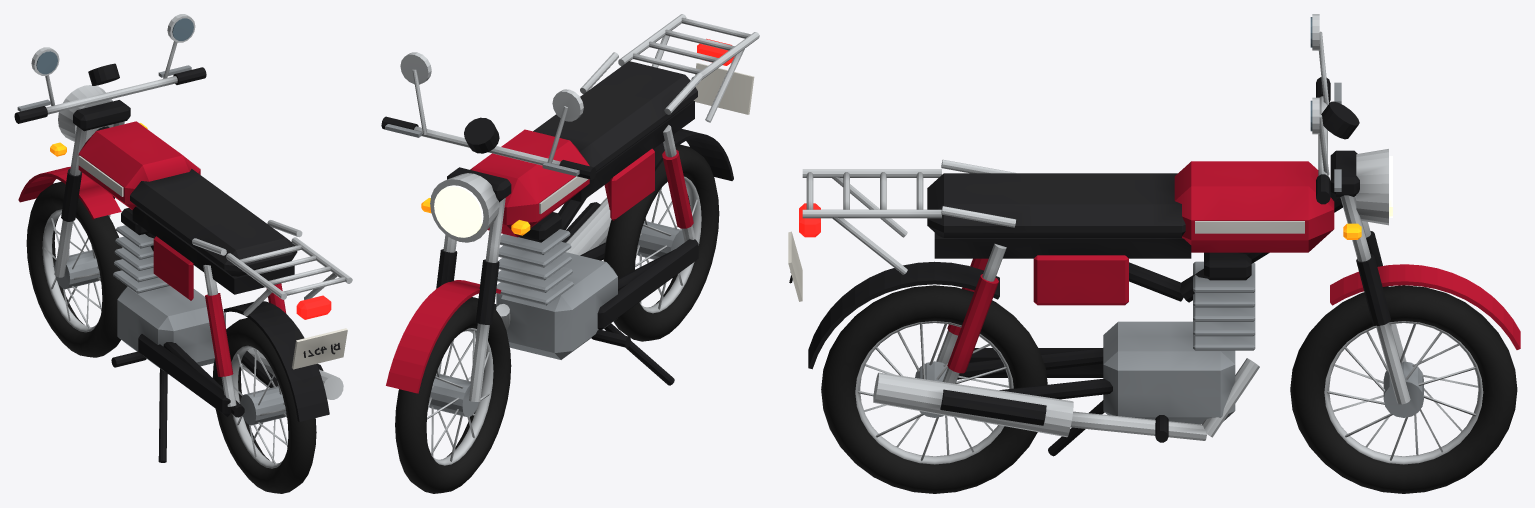
File: ob-zem.glb
3 renders of one model, left to right at view 1: azimuth 30°, elevation 25°; view 2: azimuth 150°, elevation 25°; view 3: azimuth 270°, elevation 25°, orthographic. The views are drawn at different scales.
Visible parts, largest first — view 1: z_noir, z_pneu, z_chrome, z_alu, z_rouge, selle, plaque, z_miroir, feu, z_blanc; view 2: z_chrome, z_pneu, z_alu, z_noir, z_rouge, selle, phare, plaque, z_blanc; view 3: z_pneu, z_chrome, z_noir, z_rouge, z_alu, selle, z_blanc.
Part boxes in pixels (left/top/right/bottom): z_noir: left=14, top=63, right=340, bottom=462; z_pneu: left=26, top=181, right=316, bottom=493; z_chrome: left=31, top=14, right=352, bottom=468; z_alu: left=17, top=65, right=286, bottom=425; z_rouge: left=18, top=121, right=286, bottom=376; selle: left=130, top=169, right=297, bottom=276; plaque: left=292, top=328, right=347, bottom=369; z_miroir: left=36, top=18, right=193, bottom=74; feu: left=296, top=295, right=331, bottom=319; z_blanc: left=78, top=155, right=200, bottom=196; z_chrome: left=400, top=14, right=759, bottom=465; z_pneu: left=395, top=144, right=719, bottom=493; z_alu: left=385, top=124, right=684, bottom=417; z_noir: left=381, top=101, right=733, bottom=385; z_rouge: left=386, top=129, right=693, bottom=393; selle: left=533, top=61, right=697, bottom=171; phare: left=434, top=185, right=483, bottom=237; plaque: left=693, top=63, right=754, bottom=114; z_blanc: left=539, top=176, right=588, bottom=213; z_pneu: left=821, top=285, right=1517, bottom=493; z_chrome: left=802, top=14, right=1483, bottom=464; z_noir: left=789, top=77, right=1390, bottom=456; z_rouge: left=947, top=161, right=1520, bottom=373; z_alu: left=915, top=82, right=1423, bottom=424; selle: left=927, top=173, right=1185, bottom=237; z_blanc: left=1195, top=221, right=1304, bottom=233.
Bounding box in the file's own units: 0.74 × 1.31 × 2.
